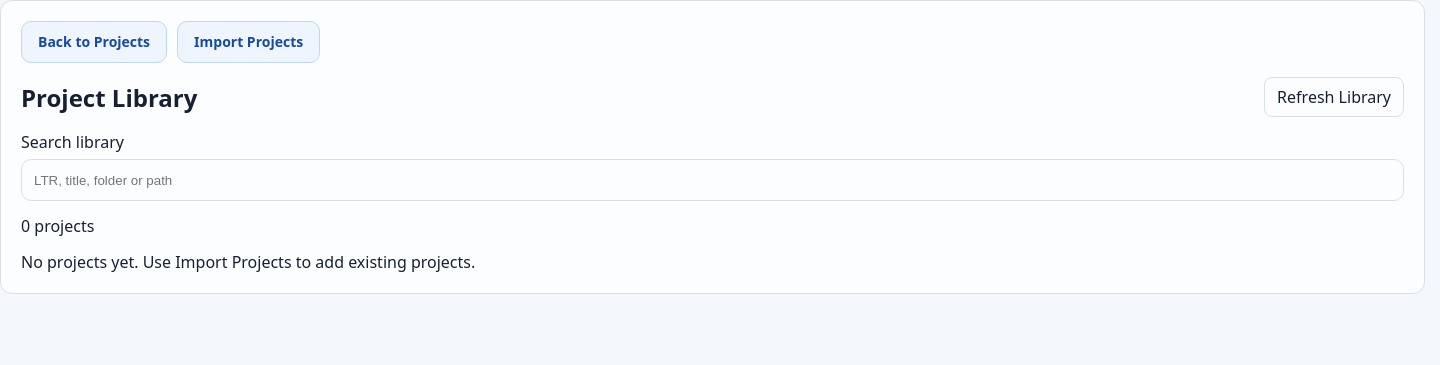
Test case: offers clearing an empty search before suggesting another import
Type "not-found" into the search field labelled "Search library" at (712, 180), box [21,159,1404,201]
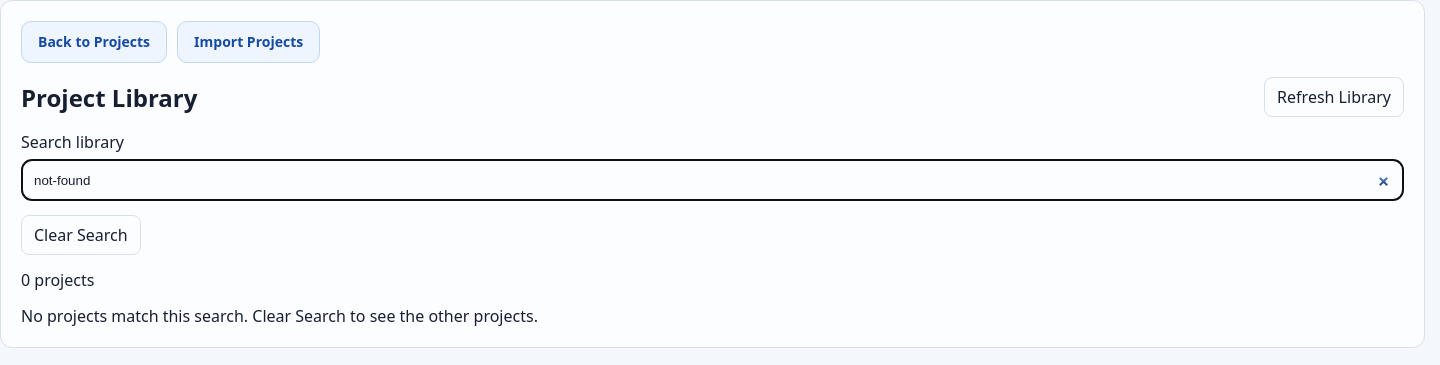
Click the button "Clear Search" at (81, 235), box [21,215,141,255]
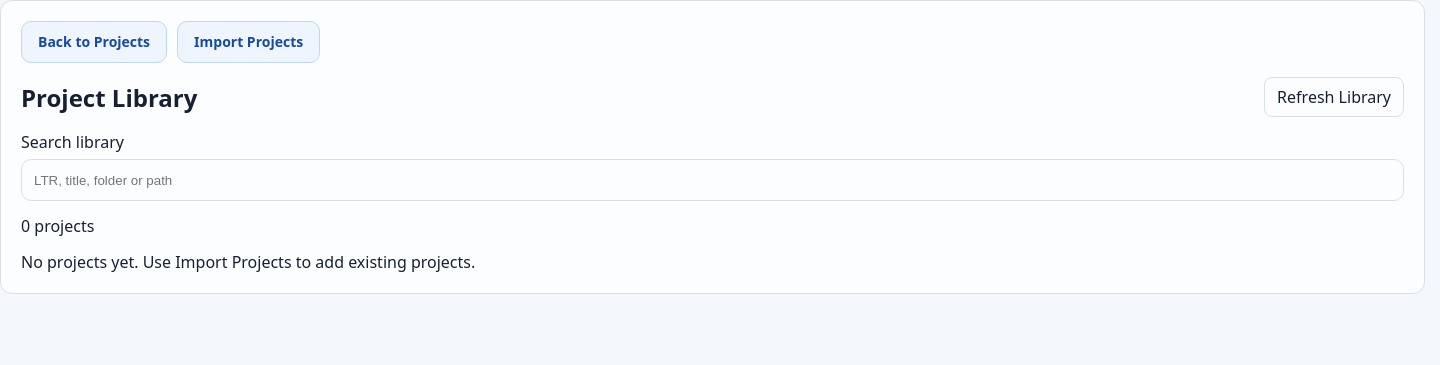
expect the search field labelled "Search library" is empty: met, box [21,159,1404,201]
